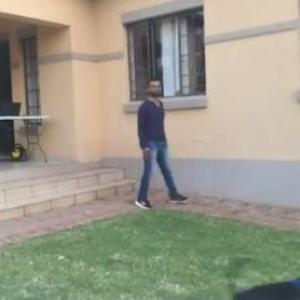follow: (134, 71, 176, 214)
